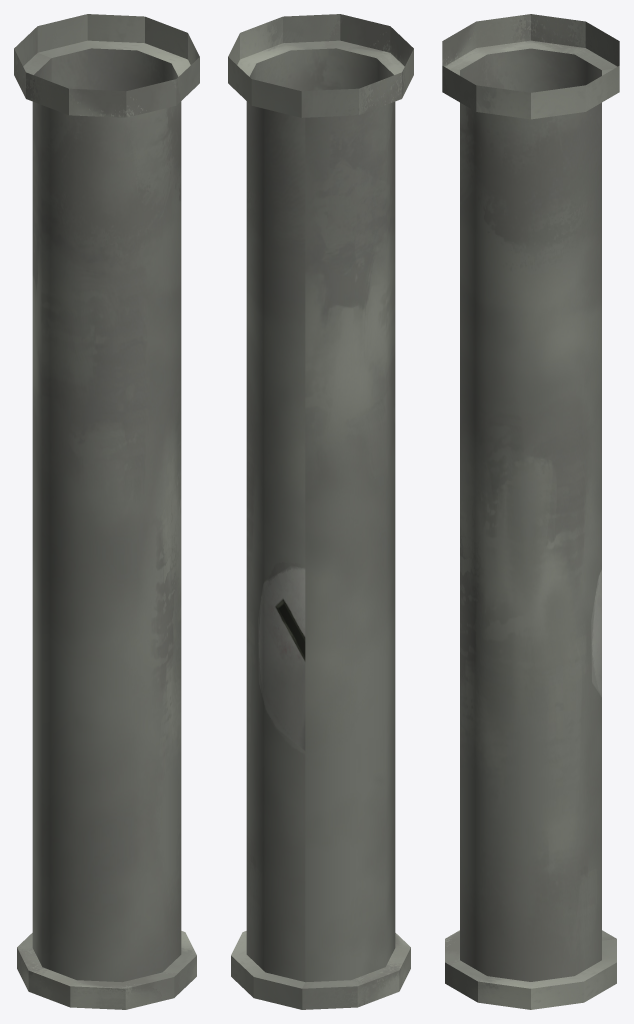
File: pipe_1_03.fbx
The picture shows the model from 3 angles, left to right: view 1: azimuth 30°, elevation 25°; view 2: azimuth 150°, elevation 25°; view 3: azimuth 270°, elevation 25°; orthographic projection.
Parts seen in each view (by area): view 1: Object032; view 2: Object032; view 3: Object032.
Part boxes in pixels (x1,y1,x2,y2): Object032: (14, 14, 199, 1009); Object032: (228, 14, 413, 1009); Object032: (442, 14, 619, 1009).
Bounding box in the file's own units: 35.5 × 193 × 33.77.
